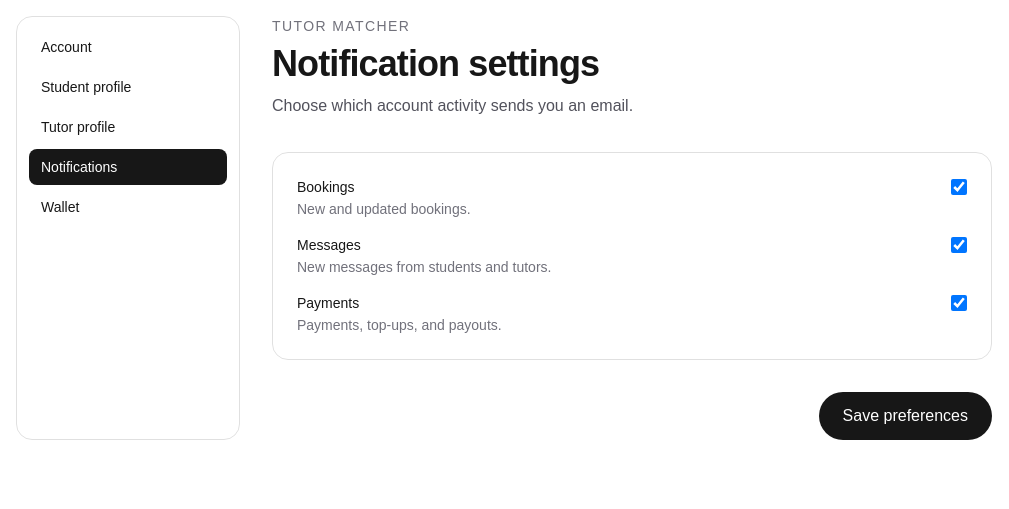
Test case: NotificationSettingsPage › saves the toggled preferences
This screenshot has width=1009, height=509.
What coordinates should you click on to do the following:
click the checkbox labelled "Bookings New and updated bookings."
I would click on:
 (959, 187)
Its box is [951,179,967,195].
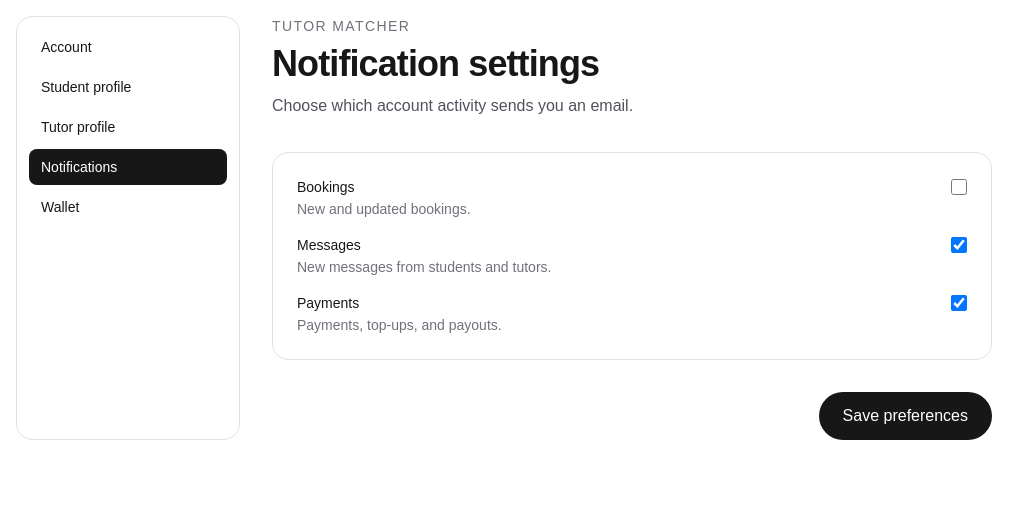
What coordinates should you click on to do the following:
click the button "Save preferences"
I would click on:
 (905, 416)
Its box is [819,392,992,440].
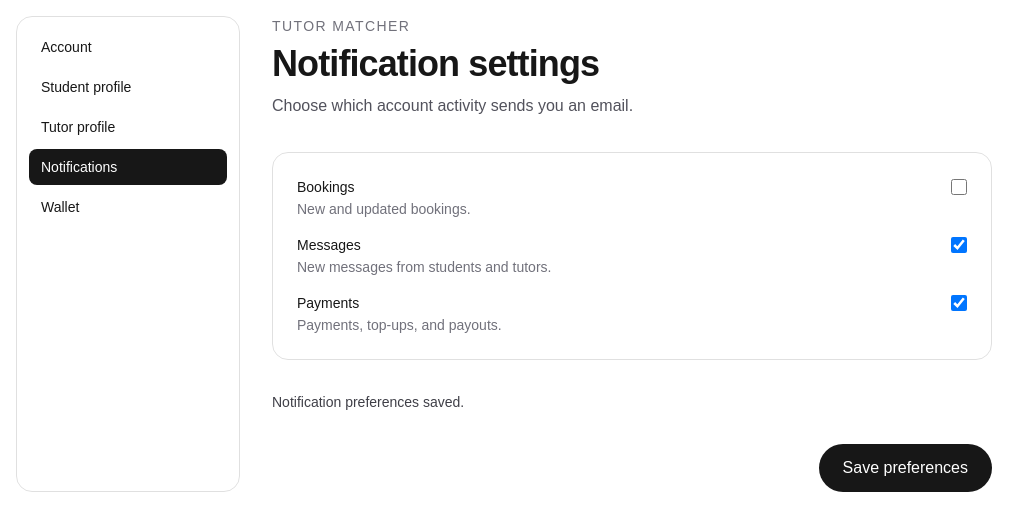
Expected: the text "Notification preferences saved." is shown, [272,394,464,410]
